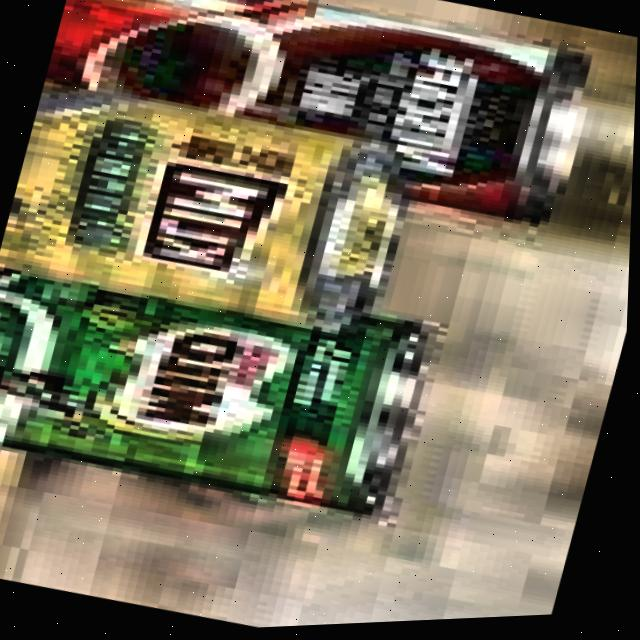metal: (25, 0, 622, 262), (0, 218, 463, 551), (0, 60, 444, 369)
